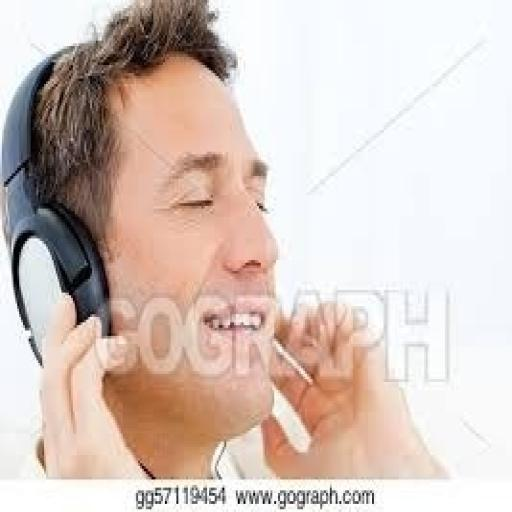listening_to_music: (1, 0, 452, 479)
